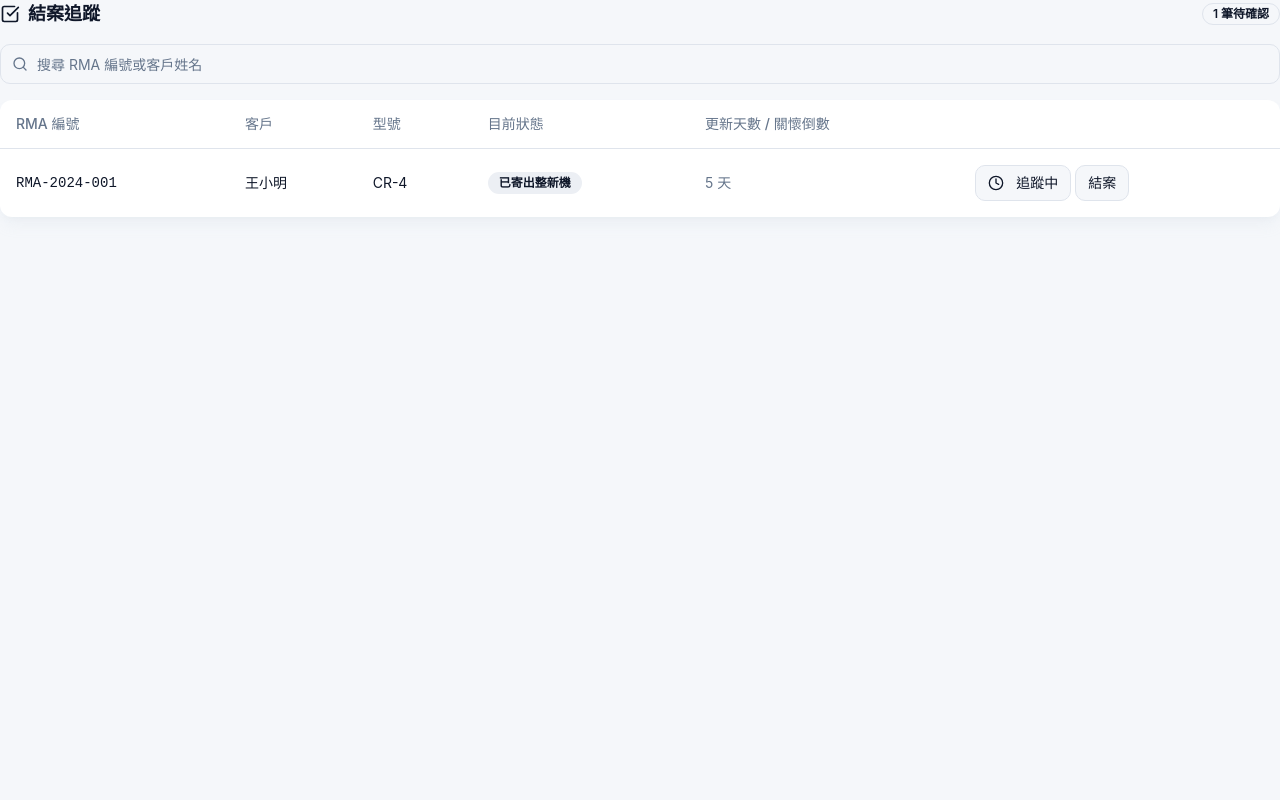
Test: ClosingTab - 追蹤中按鈕 › 點「追蹤中」→ dialog 標題含「標記追蹤中」，且不顯示 checkbox
The width and height of the screenshot is (1280, 800).
Expected: the text "RMA-2024-001" is shown, [0,148,229,216]
Click the button "追蹤中".
click(1023, 182)  # box [975,164,1071,200]
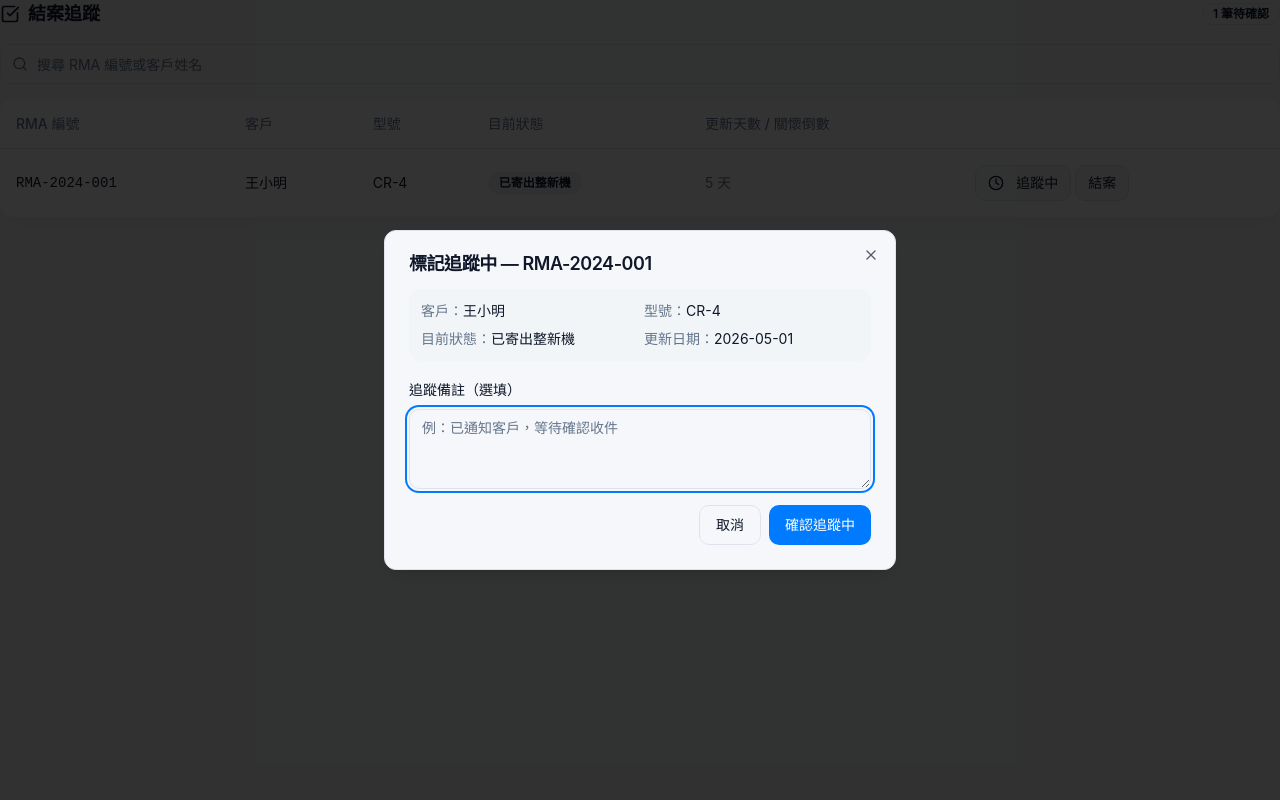
Result: the heading "標記追蹤中 — RMA-2024-001" is shown at [409,253,652,274]
